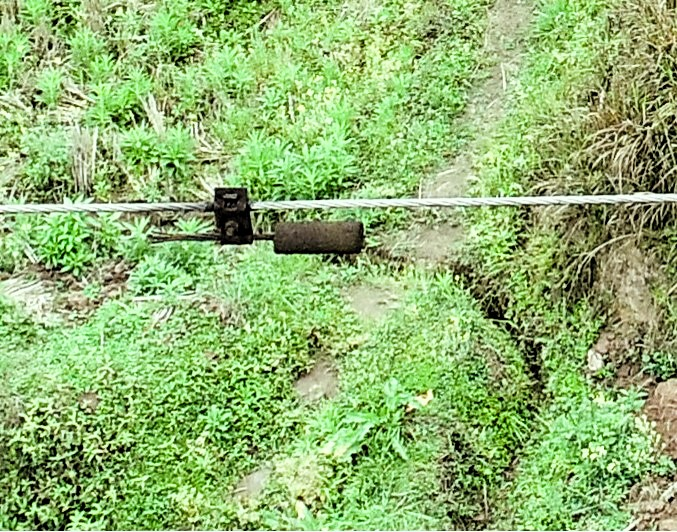Damage of shockproof hammer: (139, 175, 372, 262)
